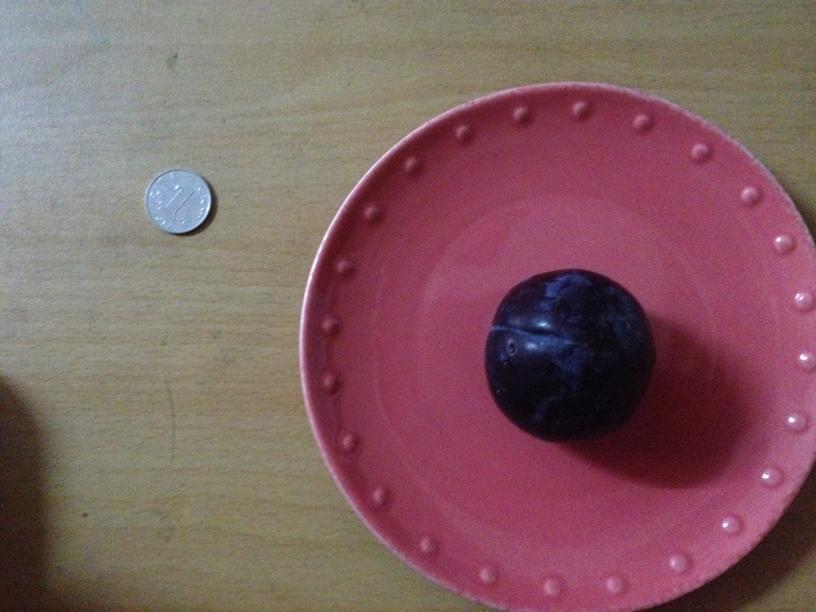coin: (147, 172, 210, 237)
plum: (129, 169, 193, 237)
